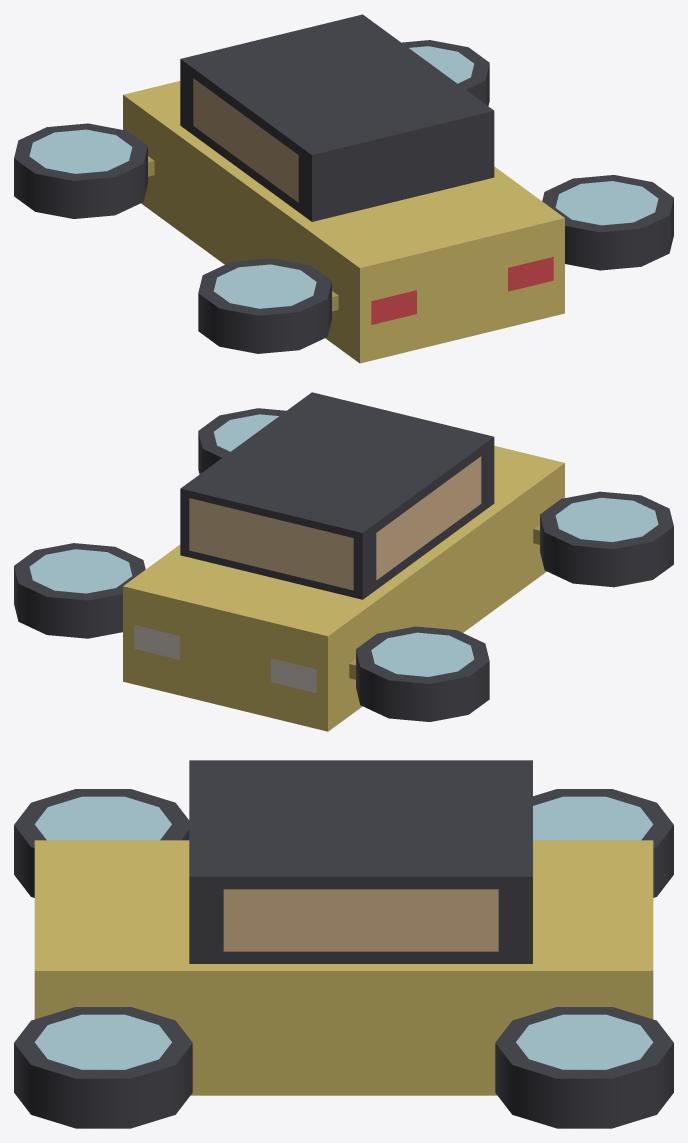
File: taxi.glb
The picture shows the model from 3 angles, top to bottom: view 1: azimuth 30°, elevation 25°; view 2: azimuth 150°, elevation 25°; view 3: azimuth 270°, elevation 25°; orthographic projection. The views are drawn at different scales.
Visible parts, largest first — view 1: taxi; view 2: taxi; view 3: taxi.
Boxes of the visible parts, <box> form: taxi: <box>14,14,673,363</box>; taxi: <box>14,392,673,731</box>; taxi: <box>14,760,673,1128</box>.
Size of the model in its own units: 1.99 by 0.681 by 1.92.
